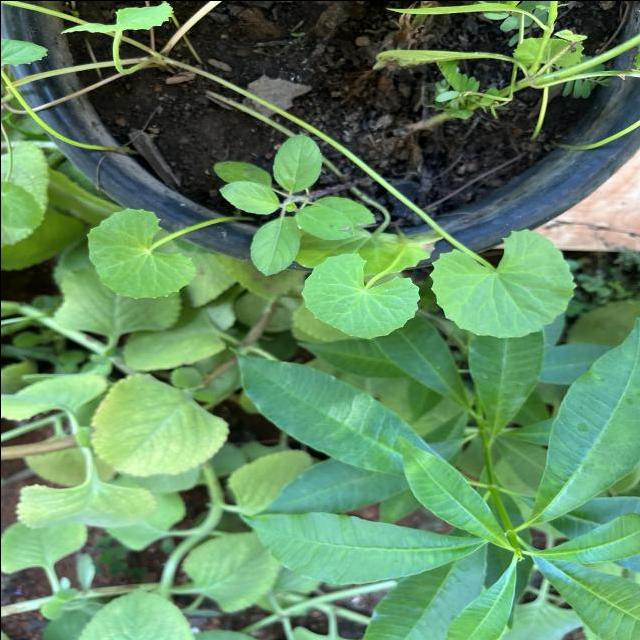Centella asiatica: (426, 226, 578, 340), (298, 250, 423, 342), (82, 202, 198, 300)
